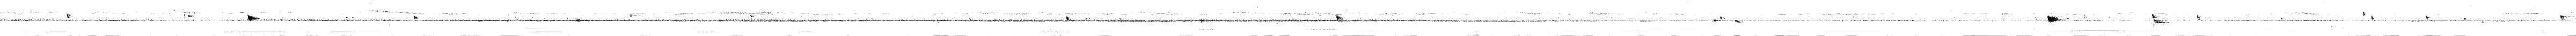meteor: (2152, 13, 2170, 23), (2047, 16, 2067, 23), (248, 15, 261, 21), (2561, 15, 2574, 18), (2196, 15, 2203, 20), (1735, 20, 1743, 23), (187, 15, 194, 18), (1336, 16, 1342, 20), (67, 13, 71, 18), (414, 16, 419, 20), (1720, 16, 1725, 20), (2371, 15, 2374, 20), (2362, 11, 2366, 16), (2426, 16, 2431, 20), (1066, 16, 1069, 20)
